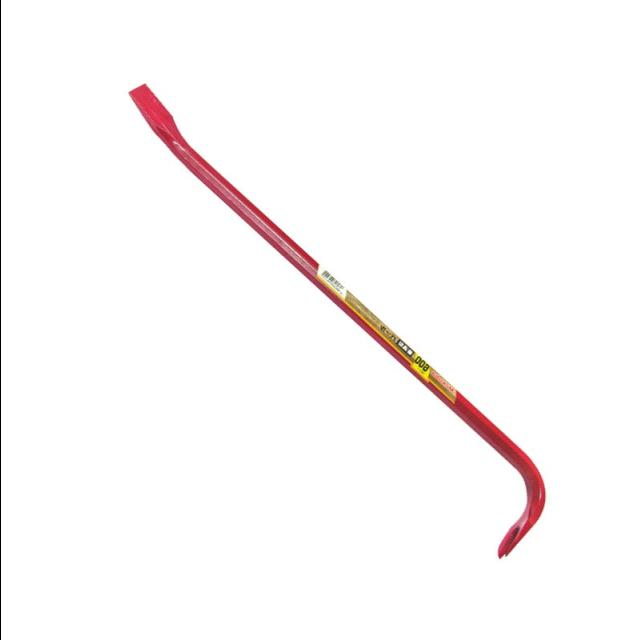Linggis: (131, 83, 549, 559)
